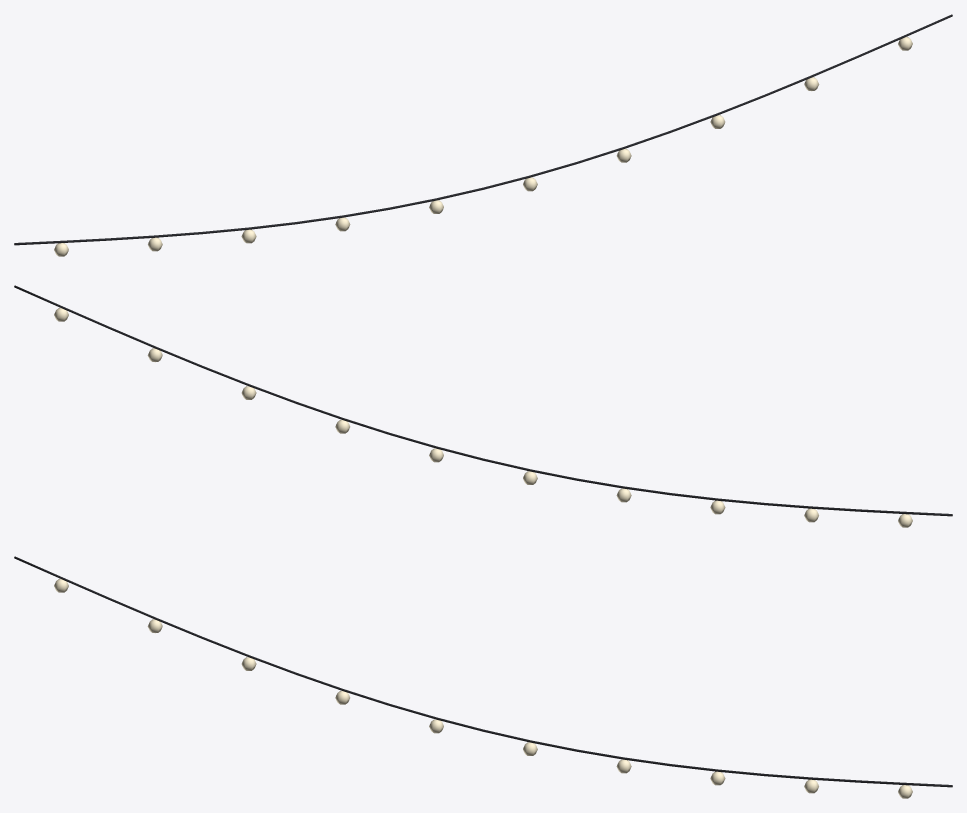
The model's file is string_lights.gltf.
3 views of the same model, one above another, from view 1: azimuth 30°, elevation 25°; view 2: azimuth 150°, elevation 25°; view 3: azimuth 330°, elevation 25° (orthographic).
Visible parts, largest first — view 1: string_lights_mesh; view 2: string_lights_mesh; view 3: string_lights_mesh.
Boxes of the visible parts, x1,y1,x2,y2 form: string_lights_mesh: [14, 14, 952, 256]; string_lights_mesh: [14, 285, 952, 527]; string_lights_mesh: [14, 556, 952, 798].
Size of the model in its own units: 10 by 0.7544 by 0.14.
